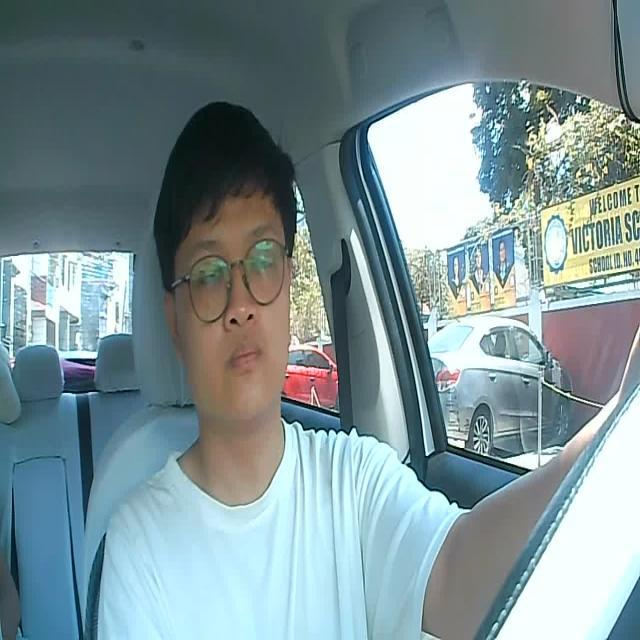Attentive: (157, 93, 306, 415)
Eye-Open: (196, 263, 228, 289), (250, 250, 274, 273)
Normal: (229, 338, 266, 373)
